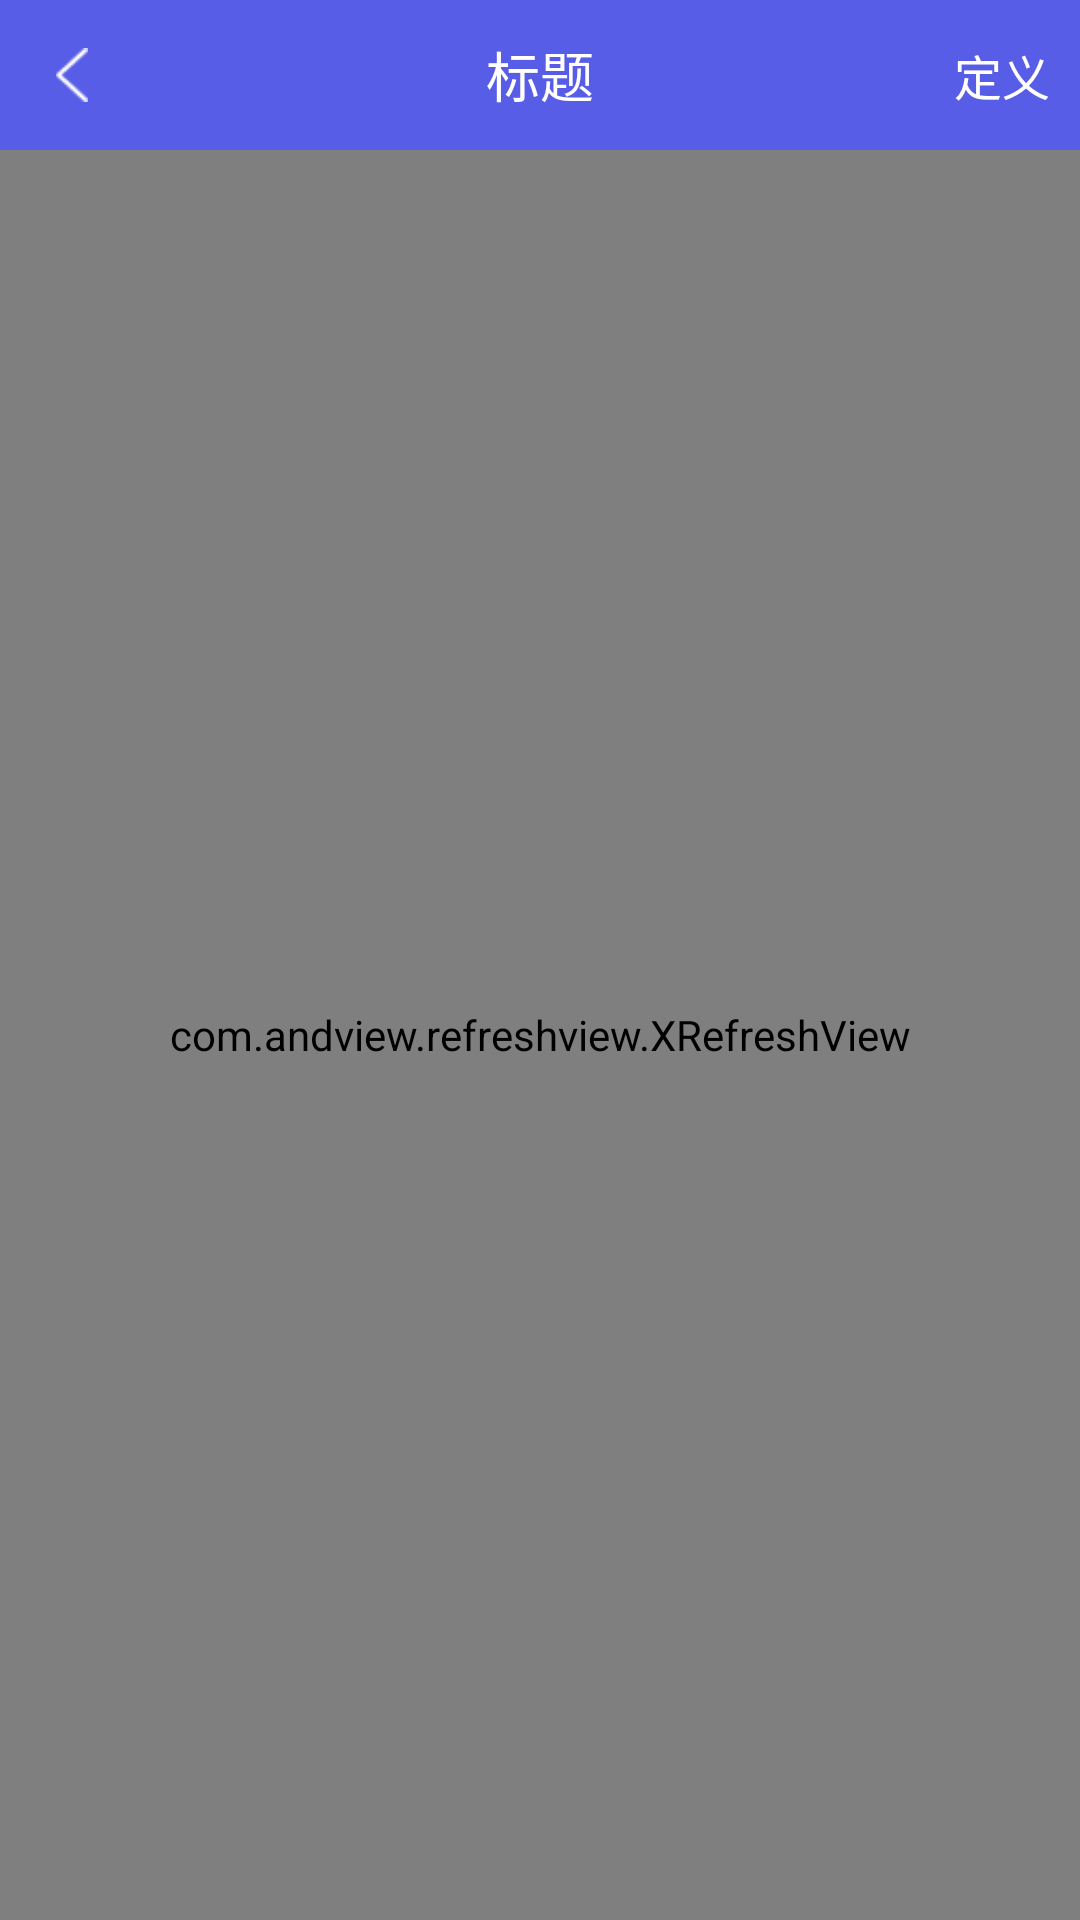

Screen size 1080*1920. Icon name, then its box in pixels as detection(x1, y1, x2, y2):
back: detection(56, 48, 88, 102)
